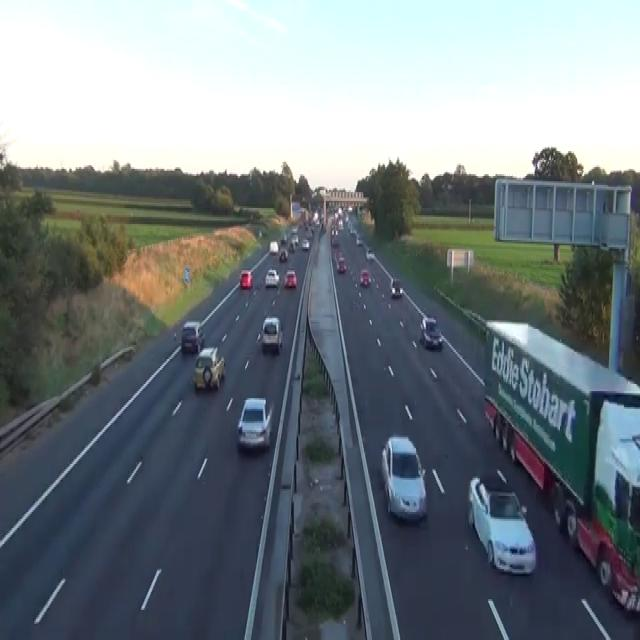Car: (467, 469, 536, 576), (381, 433, 427, 522), (236, 396, 273, 450), (193, 345, 225, 391), (180, 320, 204, 354), (261, 315, 283, 352), (419, 316, 443, 348), (483, 395, 497, 430), (264, 267, 279, 286), (283, 268, 297, 288), (239, 268, 252, 288), (390, 277, 402, 297), (359, 268, 371, 286), (336, 256, 346, 272), (330, 230, 339, 246), (278, 247, 288, 261), (365, 247, 374, 261), (269, 240, 278, 254), (301, 238, 309, 249), (288, 240, 295, 252), (355, 237, 363, 246), (280, 233, 287, 243), (292, 233, 299, 243), (337, 219, 343, 229), (349, 226, 356, 234), (291, 226, 298, 233), (347, 204, 352, 212), (258, 230, 262, 237)
Truck: (482, 318, 639, 615)
